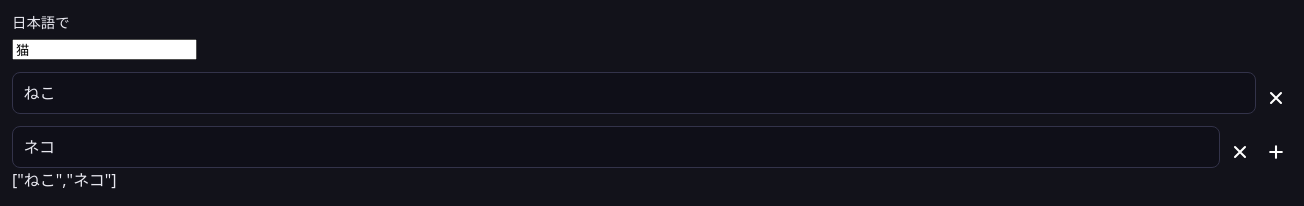
Scenario: AnswerInputs › × removes that input and its contents
The image size is (1304, 206).
Click the button named "日本語で（2）を削除".
click(1276, 98)  # box [1260,82,1292,114]
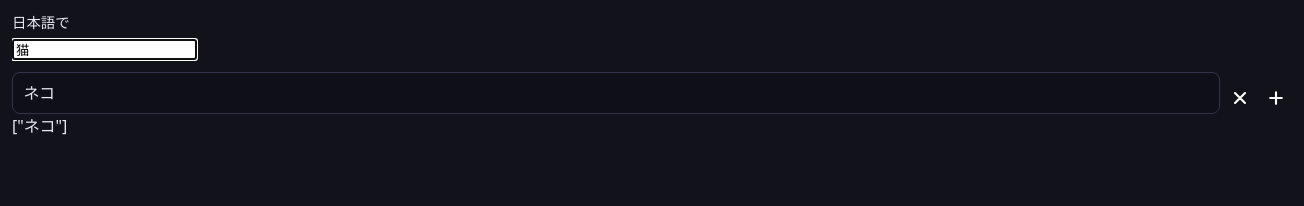
Expected: the field named "日本語で（2）" holds "ネコ", [12,72,1220,114]
Expected: the field labelled "日本語で（3）" is gone
Expected: the text "[\"ネコ\"]" is shown, [12,115,67,137]
